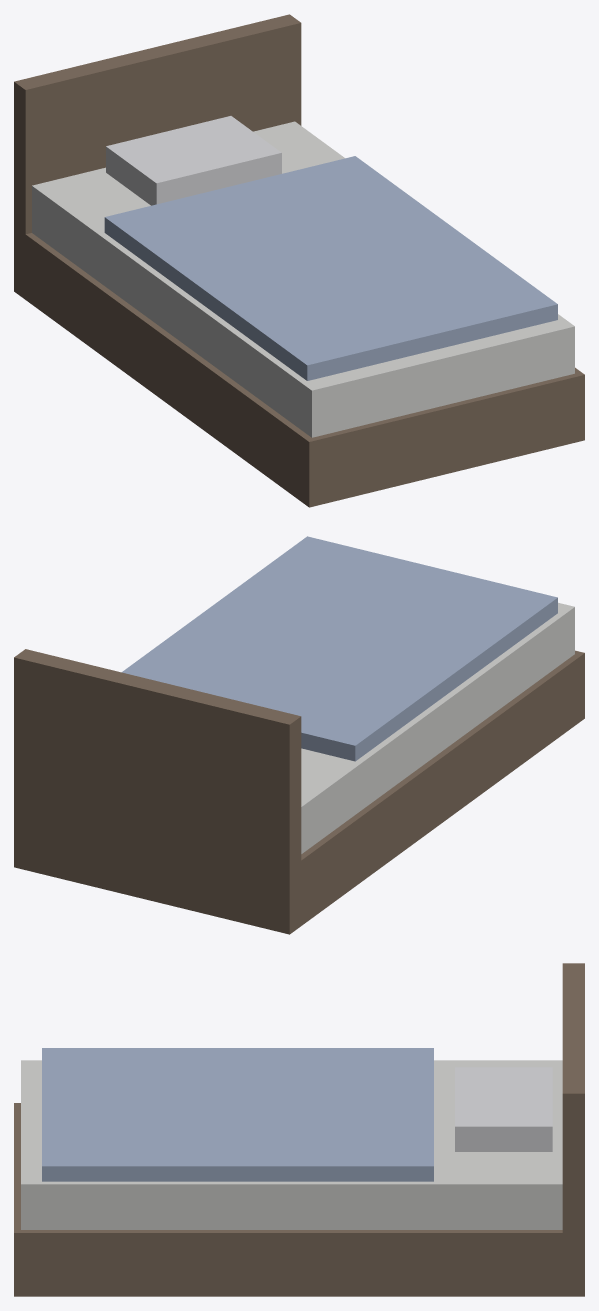
The model's file is item_bed.glb.
3 views of the same model, one above another, from view 1: azimuth 30°, elevation 25°; view 2: azimuth 150°, elevation 25°; view 3: azimuth 270°, elevation 25° (orthographic). The views are drawn at different scales.
Parts seen in each view (by area): view 1: item_bed; view 2: item_bed; view 3: item_bed.
Part boxes in pixels (x1,y1,x2,y2): item_bed: [14, 14, 584, 507]; item_bed: [14, 536, 584, 934]; item_bed: [14, 963, 584, 1296].
Bounding box in the file's own units: 1.1 × 0.8 × 2.04.
